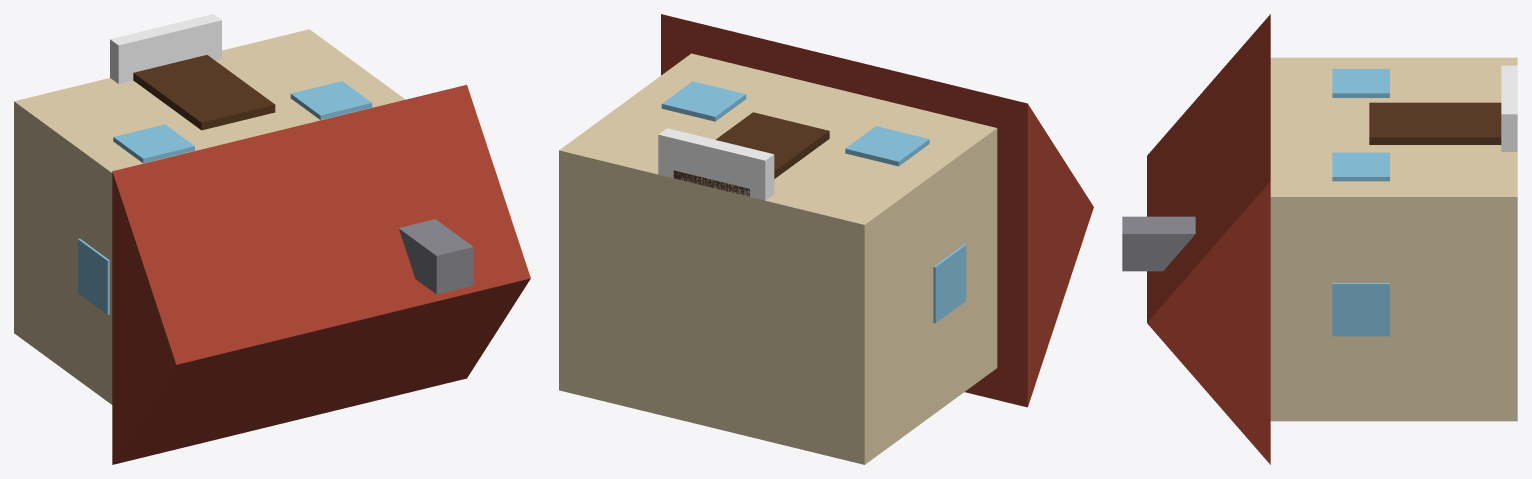
Rendered from low_poly_house.obj.
The picture shows the model from 3 angles, left to right: view 1: azimuth 30°, elevation 25°; view 2: azimuth 150°, elevation 25°; view 3: azimuth 270°, elevation 25°; orthographic projection. The views are drawn at different scales.
Parts seen in each view (by area): view 1: Roof, Body, Door, Windows, Step, Chimney; view 2: Body, Roof, Windows, Step, Door; view 3: Body, Roof, Windows, Door, Chimney, Step.
Boxes of the visible parts, <box> form: Roof: <box>112,85,530,464</box>; Body: <box>14,29,405,404</box>; Door: <box>133,55,275,130</box>; Windows: <box>78,81,372,314</box>; Step: <box>110,14,221,83</box>; Chimney: <box>398,219,473,294</box>; Body: <box>559,53,997,464</box>; Roof: <box>661,14,1093,407</box>; Windows: <box>661,81,966,323</box>; Step: <box>658,128,774,200</box>; Door: <box>673,112,829,196</box>; Body: <box>1270,57,1517,421</box>; Roof: <box>1147,14,1270,464</box>; Windows: <box>1332,69,1389,336</box>; Door: <box>1369,102,1501,144</box>; Chimney: <box>1122,216,1195,271</box>; Step: <box>1501,65,1517,151</box>.
Size of the model in its own units: 4.8 by 3.9 by 4.8.
